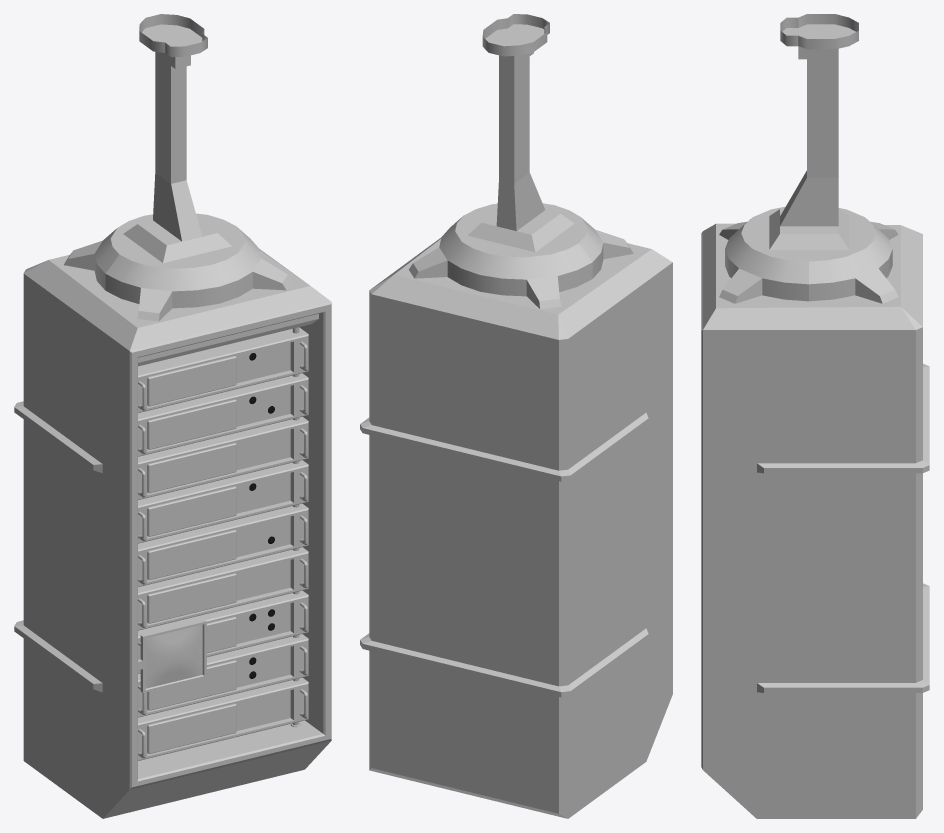
Rendered from server_theta_hanging01_rusty.dae.
3 views of the same model, side by side, from view 1: azimuth 30°, elevation 25°; view 2: azimuth 150°, elevation 25°; view 3: azimuth 270°, elevation 25° (orthographic).
Visible parts, largest first — view 1: server_hanging; view 2: server_hanging; view 3: server_hanging.
Boxes of the visible parts, x1=… form: server_hanging: x1=14, y1=14, x2=331, y2=818; server_hanging: x1=360, y1=14, x2=672, y2=818; server_hanging: x1=701, y1=14, x2=929, y2=818.
Size of the model in its own units: 1.7 by 5.64 by 1.57.
